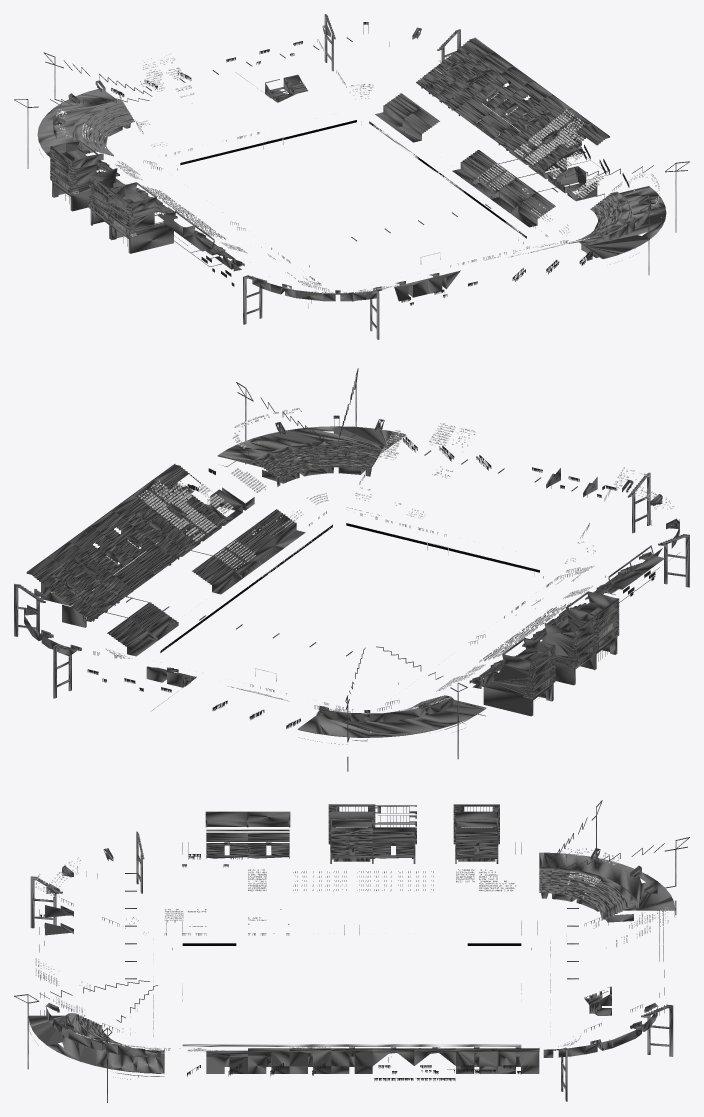
File: modern_stadium_part05.glb
3 renders of one model, top to bottom at view 1: azimuth 30°, elevation 25°; view 2: azimuth 150°, elevation 25°; view 3: azimuth 270°, elevation 25°, orthographic. The views are drawn at different scales.
Parts seen in each view (by area): view 1: Material3, Material2.067, Material2.074+Material3.009, Material2.030, Material2.015, Material2.136, Material2.103+Material2.105+Material2.106, Material3.017; view 2: Material3, Material2.067, Material2.074+Material3.009, Material2.030, Material2.136, Material2.015, Material2.103+Material2.105+Material2.106, Material3.017; view 3: Material3, Material2.067, Material2.074+Material3.009, Material2.030, Material2.015, Material2.139, Material2.103+Material2.105+Material2.106.
Boxes of the visible parts, x1,y1,x2,y2 form: Material3: (50, 22, 651, 301); Material2.067: (37, 14, 666, 339); Material2.074+Material3.009: (56, 53, 659, 293); Material2.030: (14, 37, 689, 274); Material2.015: (59, 41, 629, 305); Material2.136: (177, 120, 526, 267); Material2.103+Material2.105+Material2.106: (116, 39, 622, 291); Material3.017: (143, 186, 225, 239); Material3: (24, 415, 680, 737); Material2.067: (14, 426, 689, 744); Material2.074+Material3.009: (105, 408, 674, 712); Material2.030: (126, 368, 577, 771); Material2.136: (160, 523, 605, 684); Material2.015: (87, 436, 655, 728); Material2.103+Material2.105+Material2.106: (54, 434, 610, 711); Material3.017: (479, 603, 570, 662); Material3: (45, 804, 658, 1073); Material2.067: (28, 810, 675, 1101); Material2.074+Material3.009: (35, 848, 668, 1051); Material2.030: (14, 800, 689, 1102); Material2.015: (39, 854, 664, 1080); Material2.139: (182, 1044, 521, 1046); Material2.103+Material2.105+Material2.106: (61, 898, 642, 1051).
Bounding box in the file's own units: 177 × 27.61 × 211.
Materials: 9 (4 with a texture image).
